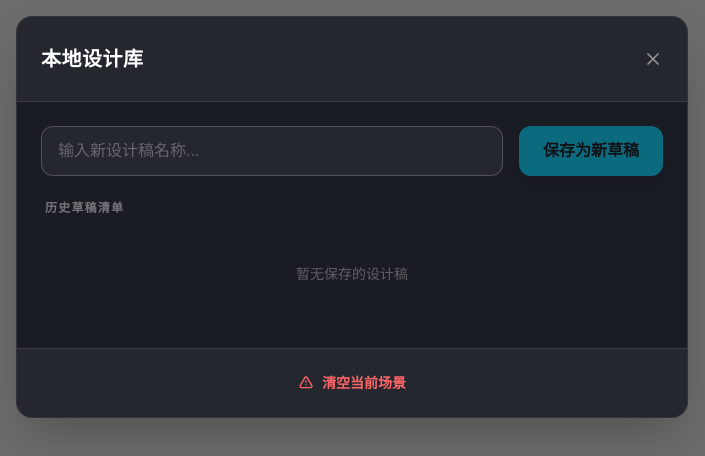
ProjectManager › 保存新项目 › 输入名称 + 保存 -> 出现在列表中
This screenshot has width=705, height=456.
Type "我的攀岩墙" into the field with placeholder "输入新设计稿名称..." at (272, 151), box [41,126,503,176]
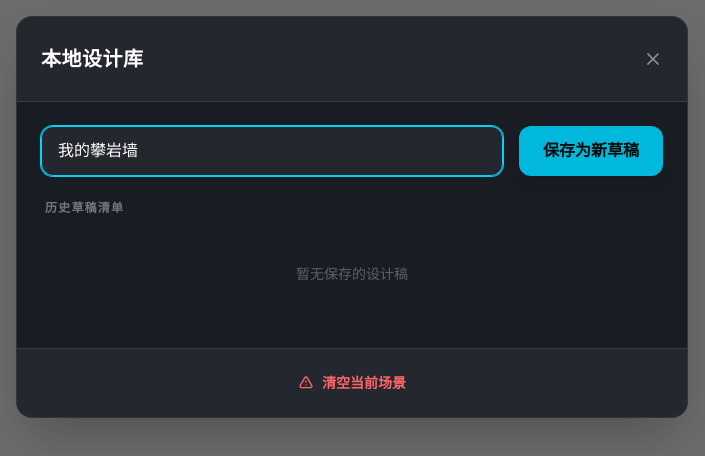
Click the button "保存为新草稿" at (591, 151), box [519,126,663,176]
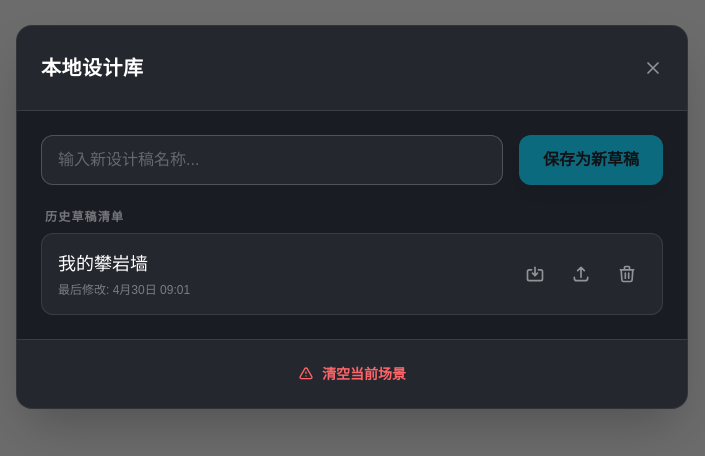
Result: the text "我的攀岩墙" is shown at [58,254,148,274]
